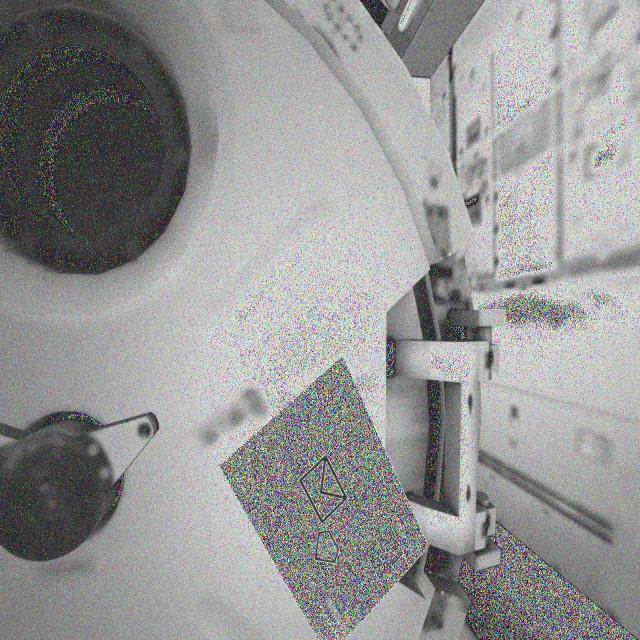diamond: (310, 520, 346, 576)
letter: (302, 449, 351, 523)
